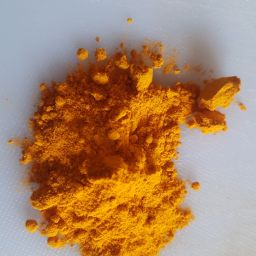Turmeric dried: (10, 14, 254, 256), (20, 49, 256, 145), (13, 132, 183, 241), (59, 34, 167, 185)
